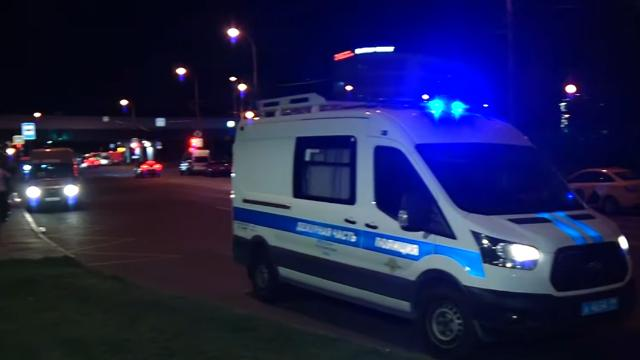non emergency car: (563, 166, 640, 216), (25, 148, 83, 212), (180, 150, 212, 176), (134, 159, 163, 177), (209, 162, 232, 179)
police car: (231, 87, 638, 360)
